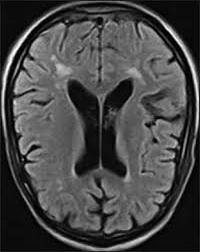Normal_Brain: (6, 1, 200, 252)
